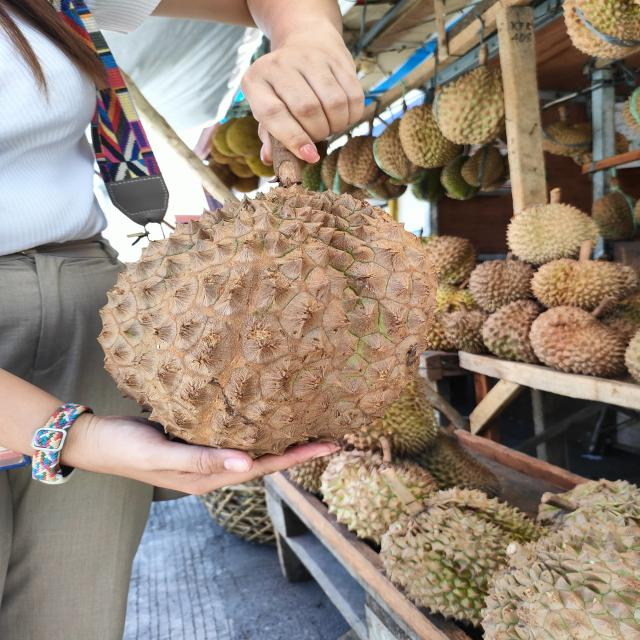mature: (96, 185, 442, 457)
